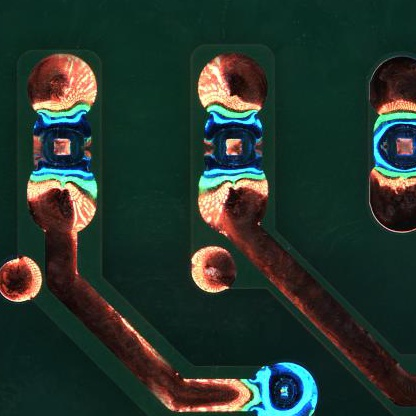spot: (32, 109, 96, 179), (203, 109, 263, 175), (247, 361, 317, 416), (370, 110, 415, 181)
